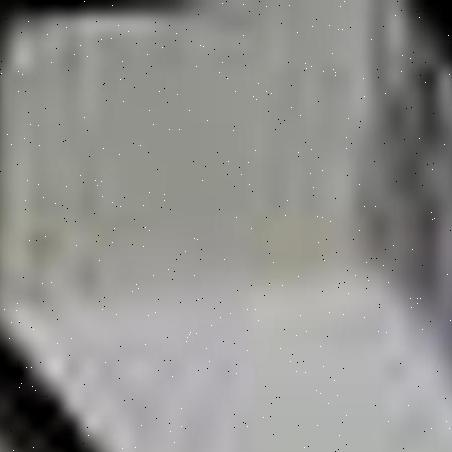Other: (3, 11, 452, 452)
